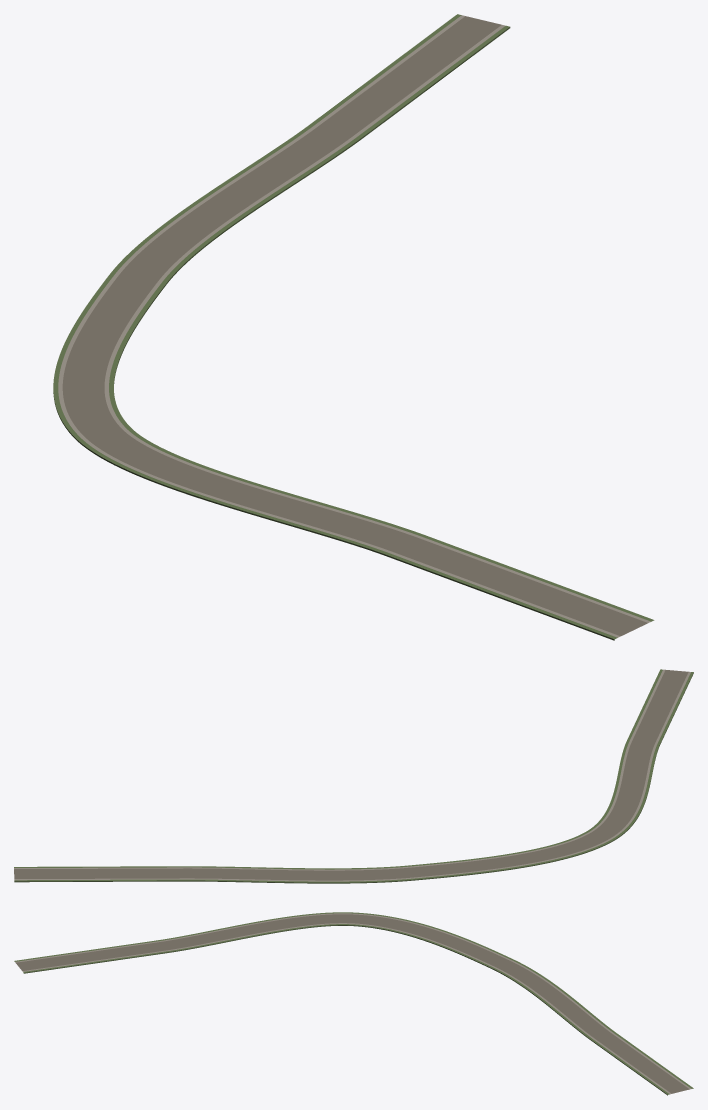
The model's file is road_roam_from_stage_autumn_glen.glb.
3 views of the same model, one above another, from view 1: azimuth 30°, elevation 25°; view 2: azimuth 150°, elevation 25°; view 3: azimuth 270°, elevation 25° (orthographic). The views are drawn at different scales.
Visible parts, largest first — view 1: road; view 2: road; view 3: road.
Part boxes in pixels (x1,y1,x2,y2): road: [53, 14, 654, 640]; road: [14, 669, 693, 883]; road: [14, 912, 693, 1095].
Size of the model in its own units: 171 by 0.32 by 269.
